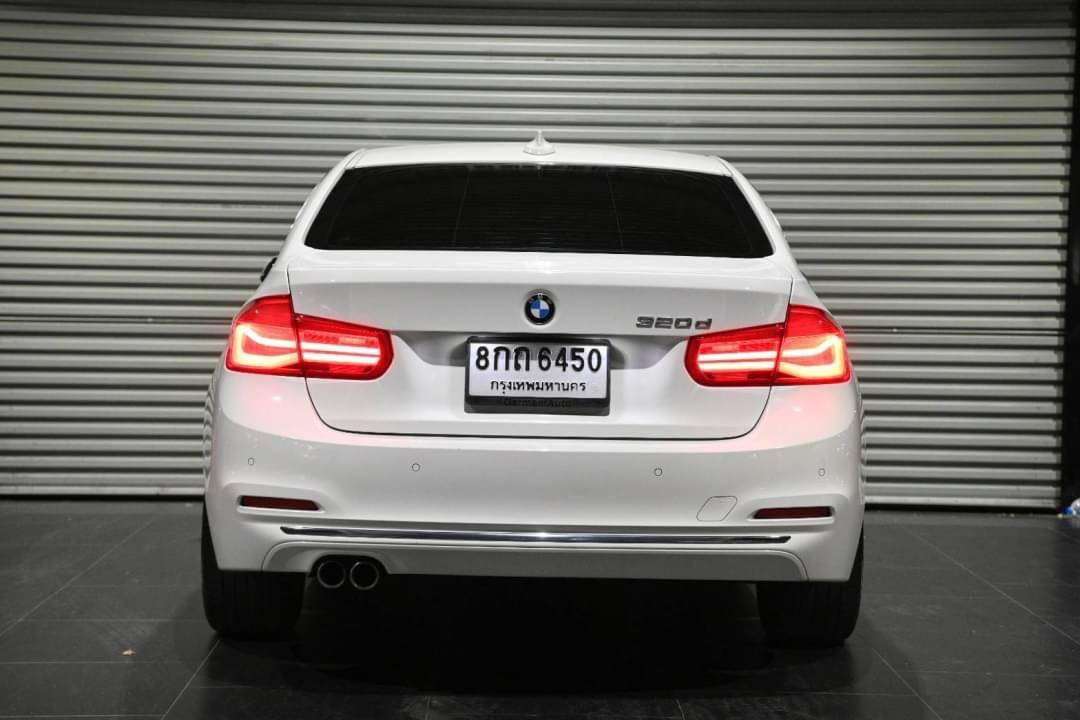license-plate: (466, 335, 612, 407)
